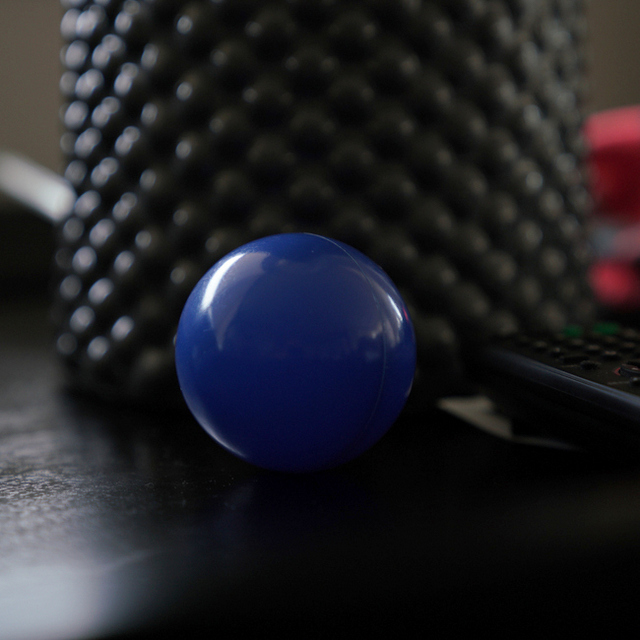Ball: (178, 237, 417, 473)
